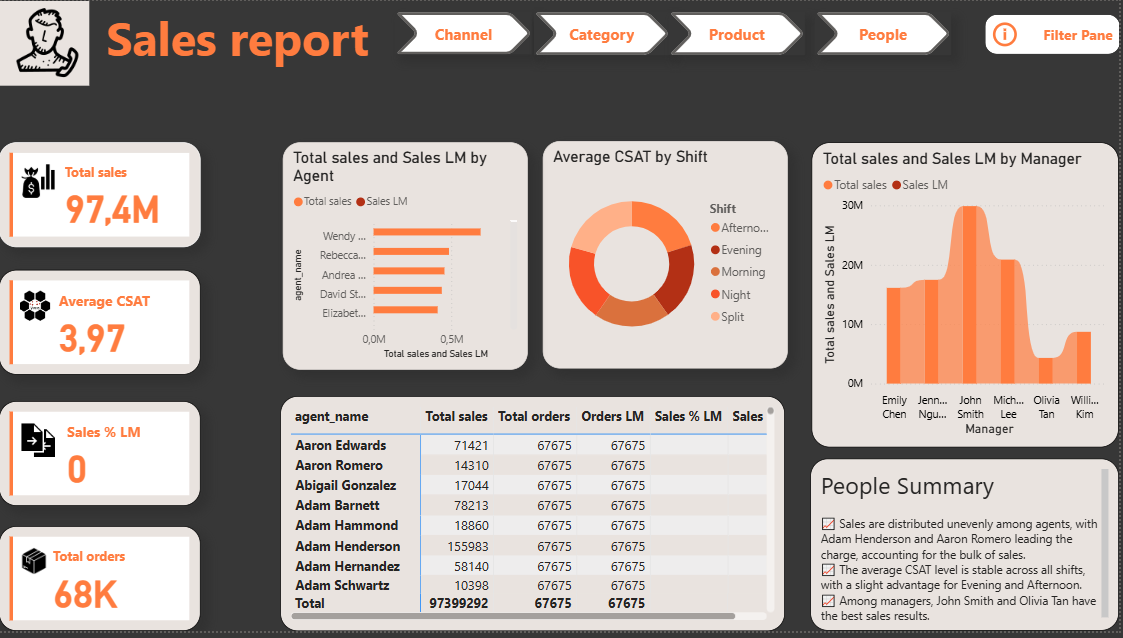

This screenshot's page, from the dashboard's own definition file:
{"tool":"powerbi","page":{"name":"Page 1","canvas":[1280,720],"ordinal":0},"visuals":[{"type":"cardVisual","fields":{"Data":["Measures Table.Total sales"]},"box":[0,161.4,230,120],"z":0},{"type":"donutChart","fields":{"Y":["Measures Table.Average CSAT"],"Series":["Channel.Channel"]},"box":[619.8,161.4,280,260],"z":0,"group":"g1"},{"type":"donutChart","fields":{"Category":["Channel.Channel"],"Y":["Measures Table.Total orders"]},"box":[331.2,161.4,280,260],"z":1000,"group":"g1"},{"type":"cardVisual","fields":{"Data":["Measures Table.Total orders"]},"box":[0,600,230,120],"z":1000},{"type":"lineStackedColumnComboChart","fields":{"Category":["Channel.Channel"],"Y":["Measures Table.Total sales","Measures Table.Sales LM"]},"box":[929.6,160,350,348.6],"z":2000,"group":"g1"},{"type":"cardVisual","fields":{"Data":["Measures Table.Average CSAT"]},"box":[0,307.1,230,120],"z":2000},{"type":"pivotTable","fields":{"Values":["Measures Table.Sales % LM","Measures Table.Sales LM","Measures Table.Total orders","Measures Table.Total sales","Measures Table.Orders LM"],"Rows":["Channel.Channel"]},"box":[329.6,456.6,577.1,262.9],"z":3000,"group":"g1"},{"type":"cardVisual","fields":{"Data":["Measures Table.Sales % LM"]},"box":[0,457.1,230,120],"z":3000},{"type":"image","box":[0,0,103.3,96.7],"z":4000},{"type":"textbox","box":[928.2,529.4,350,190],"z":4000,"group":"g1"},{"type":"textbox","box":[103.3,0,345,83.3],"z":5000},{"type":"actionButton","box":[1118.3,18.3,153.7,44.8],"z":5000,"group":"g1"},{"type":"actionButton","box":[561.5,118.6,50.6,43.6],"z":5000},{"type":"group","id":"g1","title":"Channel","box":[329.6,18.3,950,701.2],"z":7000},{"type":"actionButton","title":"Channel","box":[452.8,12.8,156,48],"z":15000},{"type":"actionButton","title":"Channel","box":[611,12.8,155,48.8],"z":16000},{"type":"actionButton","title":"Channel","box":[766,12.8,155,48.8],"z":17000},{"type":"actionButton","title":"Channel","box":[932.3,12.8,155,48.8],"z":18000}]}

Visuals, with their boxes in screenshot pixels (x1, y1, x2, y2), scaled from the page's 1280x720 canvas onto the 1123x638 screenshot:
cardVisual - Measures Table.Total sales: left=0, top=143, right=202, bottom=249
donutChart - Measures Table.Average CSAT x Channel.Channel: left=544, top=143, right=789, bottom=373
donutChart - Channel.Channel x Measures Table.Total orders: left=291, top=143, right=536, bottom=373
cardVisual - Measures Table.Total orders: left=0, top=532, right=202, bottom=637
lineStackedColumnComboChart - Channel.Channel x Measures Table.Total sales: left=816, top=142, right=1122, bottom=451
cardVisual - Measures Table.Average CSAT: left=0, top=272, right=202, bottom=378
pivotTable - Measures Table.Sales % LM x Measures Table.Sales LM: left=289, top=405, right=795, bottom=637
cardVisual - Measures Table.Sales % LM: left=0, top=405, right=202, bottom=511
image: left=0, top=0, right=91, bottom=86
textbox: left=814, top=469, right=1121, bottom=637
textbox: left=91, top=0, right=393, bottom=74
actionButton: left=981, top=16, right=1116, bottom=56
actionButton: left=493, top=105, right=537, bottom=144
"Channel" group: left=289, top=16, right=1122, bottom=637
"Channel" actionButton: left=397, top=11, right=534, bottom=54
"Channel" actionButton: left=536, top=11, right=672, bottom=55
"Channel" actionButton: left=672, top=11, right=808, bottom=55
"Channel" actionButton: left=818, top=11, right=954, bottom=55
